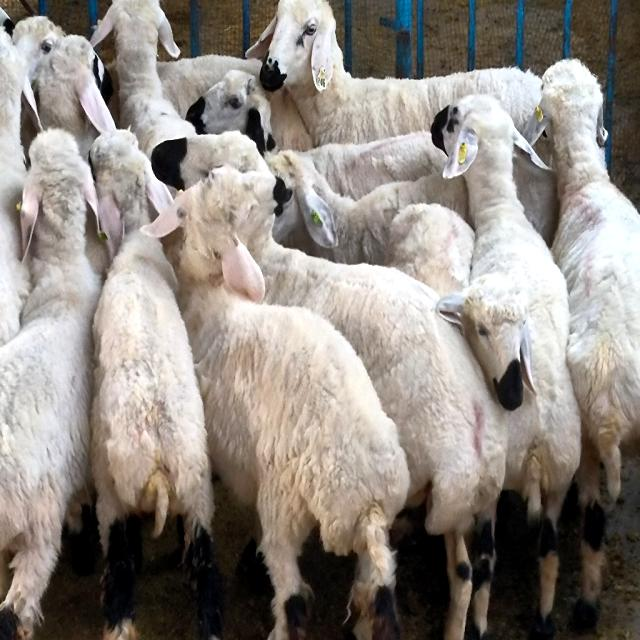sheep: (142, 167, 409, 638), (250, 227, 506, 638), (431, 95, 580, 632), (91, 130, 222, 638), (539, 60, 640, 628), (0, 130, 101, 637), (246, 0, 541, 146), (389, 203, 532, 412), (266, 150, 469, 264), (91, 0, 195, 153), (142, 107, 268, 190), (34, 35, 115, 160), (186, 70, 275, 154)
